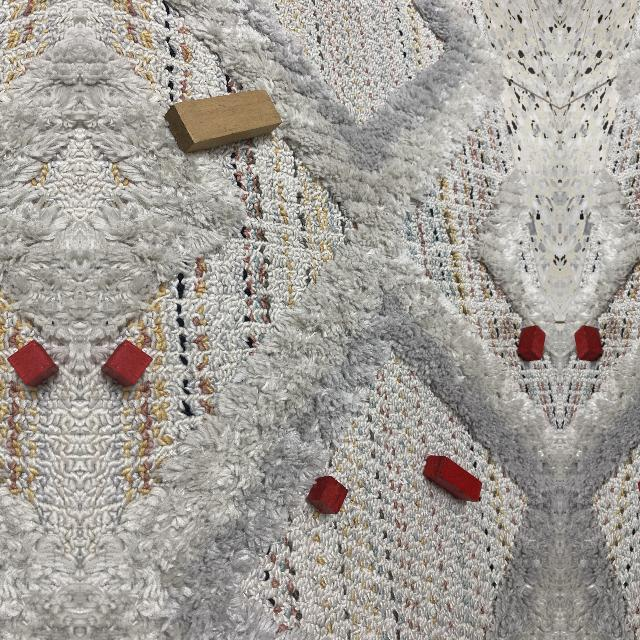jenga: (164, 90, 282, 154)
red block: (423, 455, 482, 503), (517, 325, 546, 361), (574, 325, 603, 361)
red cube: (100, 340, 153, 392), (7, 340, 60, 392), (306, 476, 348, 514)
